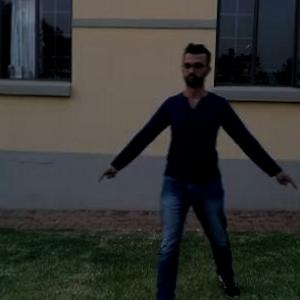land: (118, 47, 283, 290)
